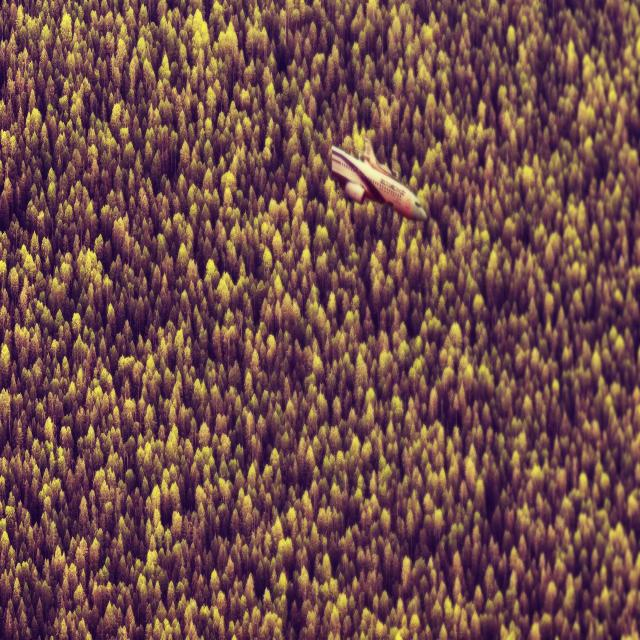airplane: (330, 131, 427, 222)
